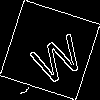W: (25, 25, 87, 86)
